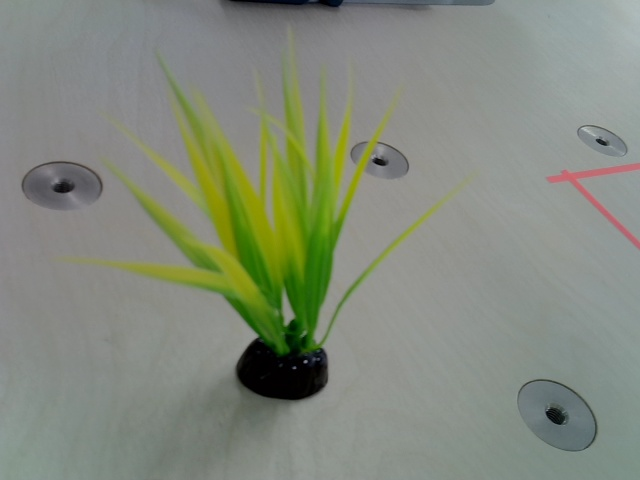해바라기새싹: (89, 47, 444, 402)
